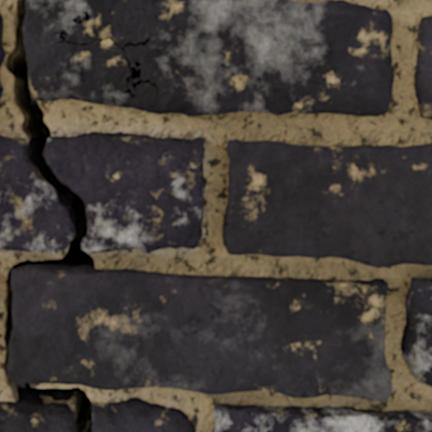brick: (8, 266, 391, 400), (24, 0, 393, 115), (223, 140, 431, 266), (212, 404, 431, 431), (401, 278, 431, 385), (414, 17, 431, 118), (0, 15, 4, 65), (0, 84, 2, 95)
broken_brick: (46, 131, 206, 254), (0, 134, 72, 254), (92, 397, 196, 431), (0, 401, 71, 431)
crack: (2, 0, 95, 431)
